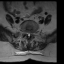CCS_normal: (28, 30, 29, 39)
LFS_stenosis: (31, 29, 34, 37)
LLS_stenosis: (29, 30, 31, 37)
RFS_normal: (23, 29, 26, 36)
RLS_stenosis: (26, 30, 28, 36)
